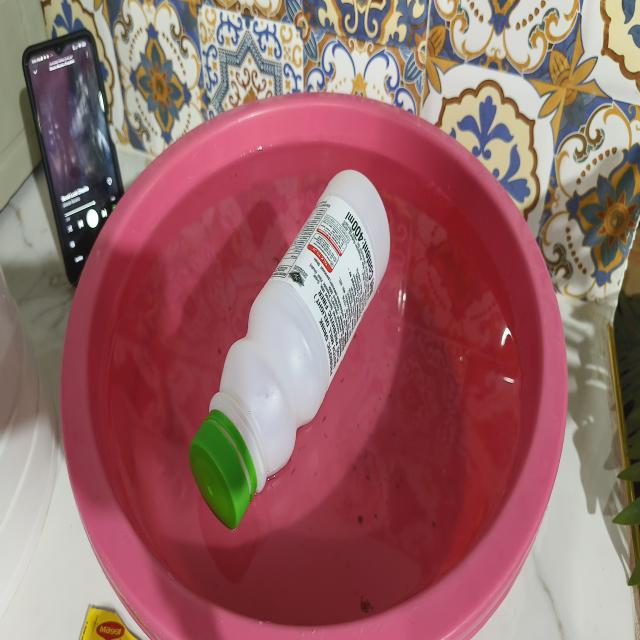Plastic Bottle: (169, 139, 408, 564)
